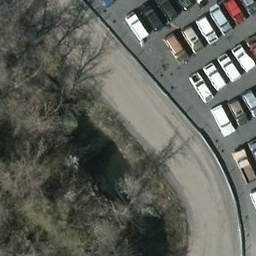car: (209, 106, 236, 138), (229, 151, 256, 183), (188, 71, 215, 103), (123, 8, 150, 40), (162, 33, 189, 65), (182, 25, 204, 54), (196, 16, 218, 45), (210, 6, 232, 35), (232, 42, 254, 71), (202, 62, 224, 90), (218, 53, 240, 81), (228, 100, 250, 128), (243, 90, 256, 117)
